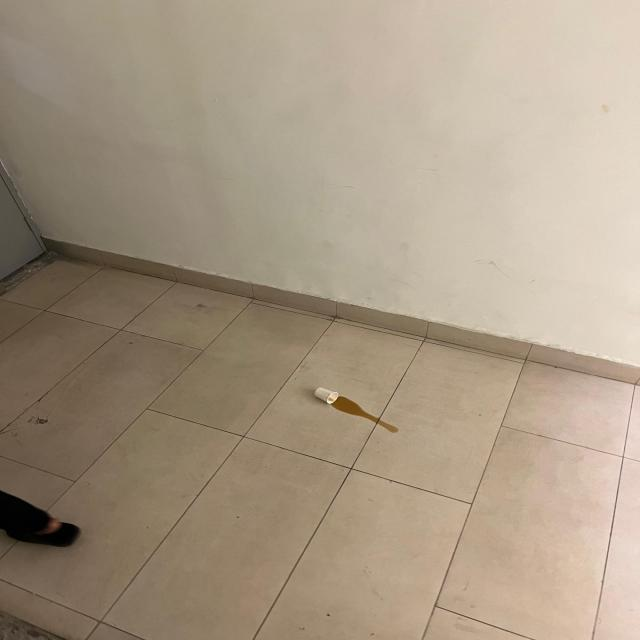cup: (313, 386, 339, 404)
spill: (328, 394, 402, 434)
